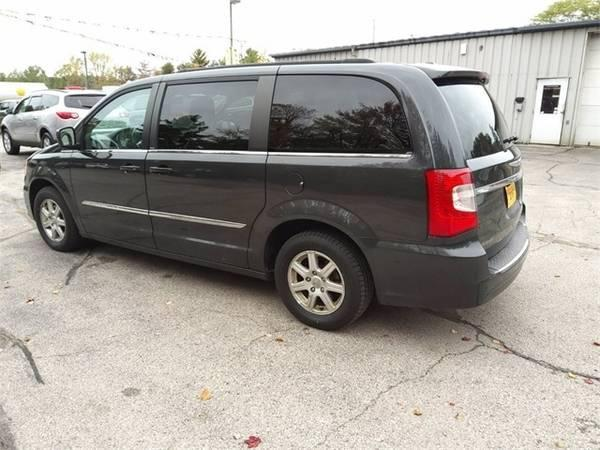Front_Fender: (24, 147, 86, 238)
Front_Left_Door: (72, 148, 156, 253)
Front_Left_Window: (72, 85, 159, 149)
Left_Taillight: (426, 171, 474, 241)
Rear_Bumper: (362, 206, 528, 311)
Rear_Fender: (249, 76, 432, 282)
Rear_Left_Door: (147, 148, 271, 273)
Rear_Left_Window: (151, 75, 278, 151)
Rear_Windshield: (435, 78, 513, 159)
Roof: (62, 63, 487, 169)
Tailgate: (469, 148, 523, 256)
Wheel: (273, 231, 369, 329), (31, 187, 73, 250)
